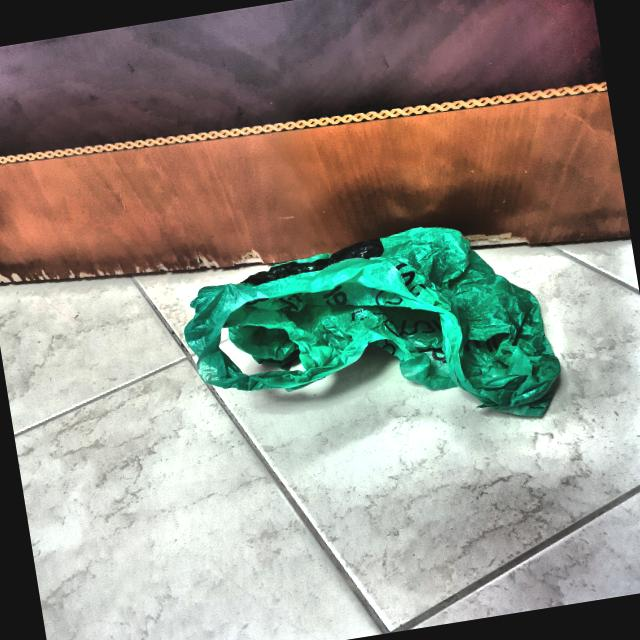plastic bag: (175, 206, 570, 469)
